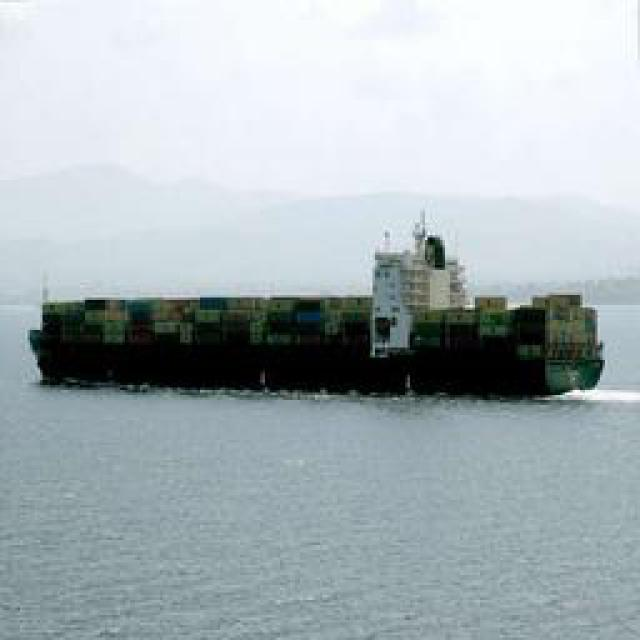Ship: (29, 226, 619, 401)
